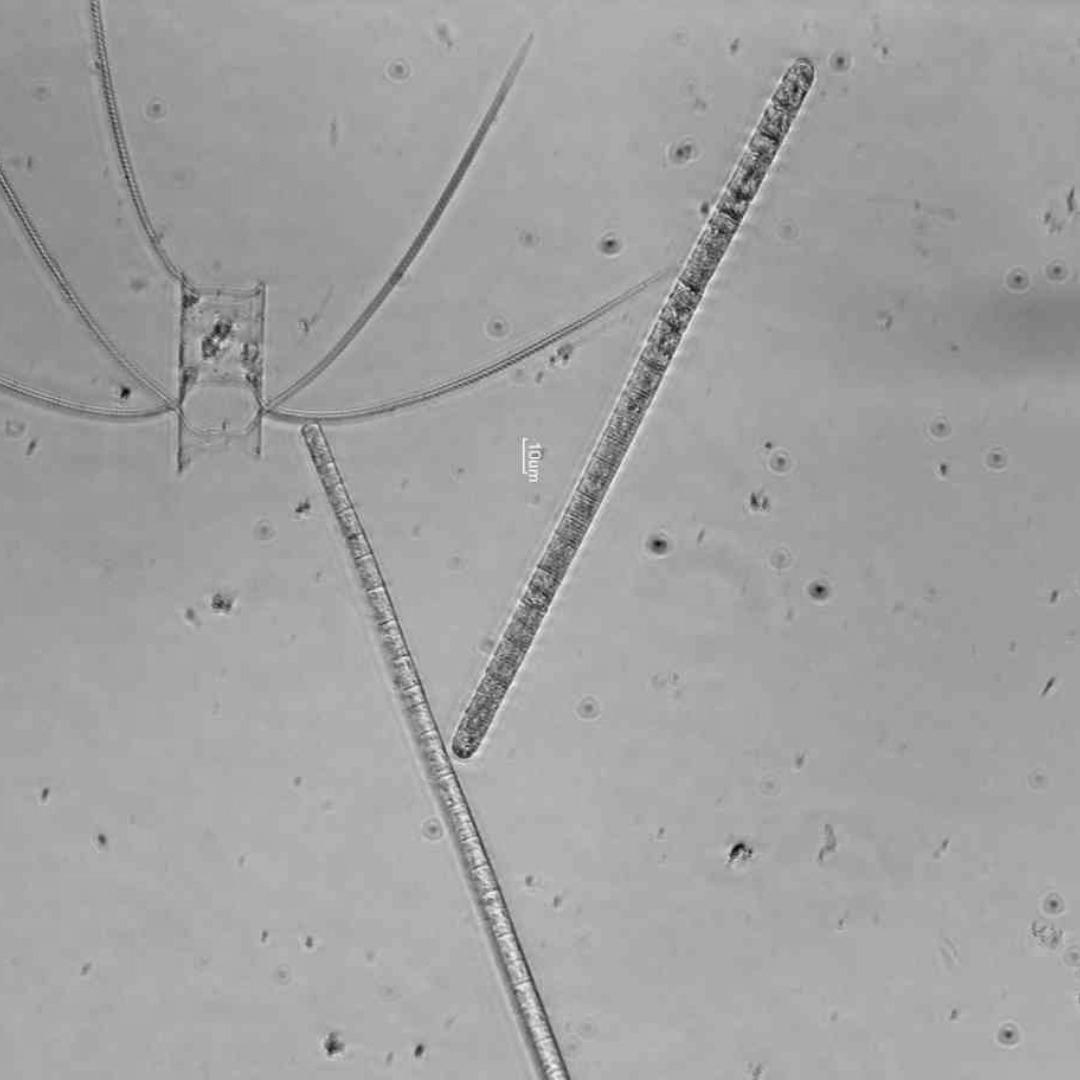trichodesmium_erythraeum: (447, 57, 814, 759), (300, 418, 572, 1079)
